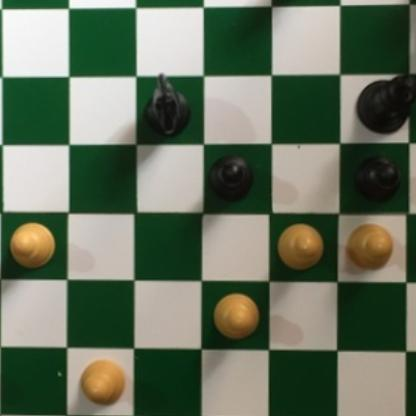black-king: (352, 71, 416, 135)
black-knight: (139, 68, 193, 141)
black-pawn: (353, 155, 401, 203), (205, 153, 253, 200)
white-pawn: (6, 219, 60, 272), (344, 219, 397, 271), (274, 222, 329, 272), (211, 288, 261, 342), (75, 358, 128, 407)
